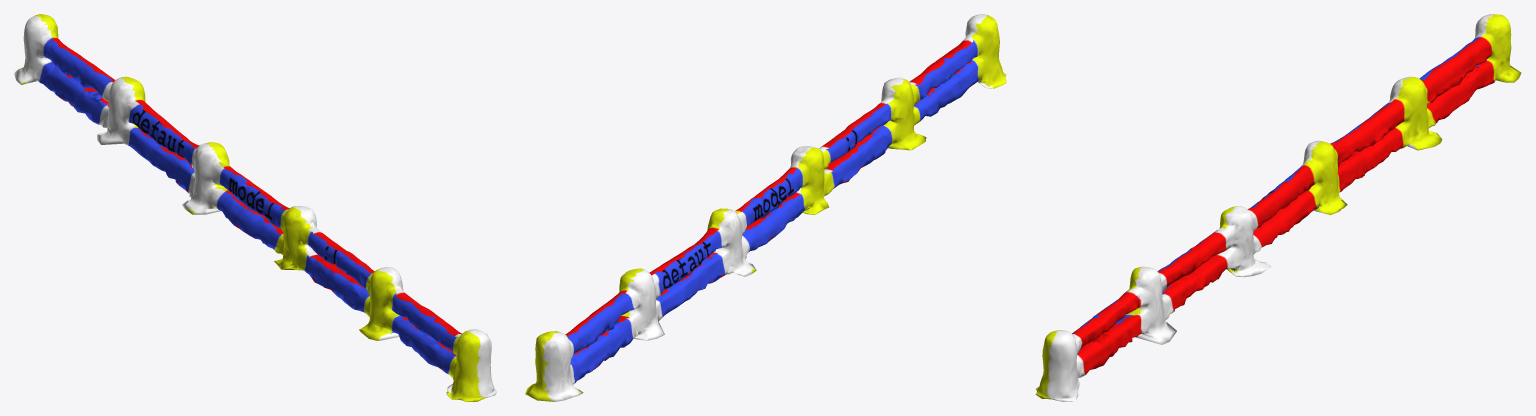
The model's file is fence.obj.
3 renders of one model, left to right at view 1: azimuth 30°, elevation 25°; view 2: azimuth 150°, elevation 25°; view 3: azimuth 330°, elevation 25°, orthographic.
Visible parts, largest first — view 1: low_poly; view 2: low_poly; view 3: low_poly.
Part boxes in pixels (x1,y1,x2,y2): low_poly: (14,14,496,401); low_poly: (525,14,1006,401); low_poly: (1035,14,1521,401).
Size of the model in its own units: 3.65 by 3.97 by 51.6.
1 material, 1 textured.
